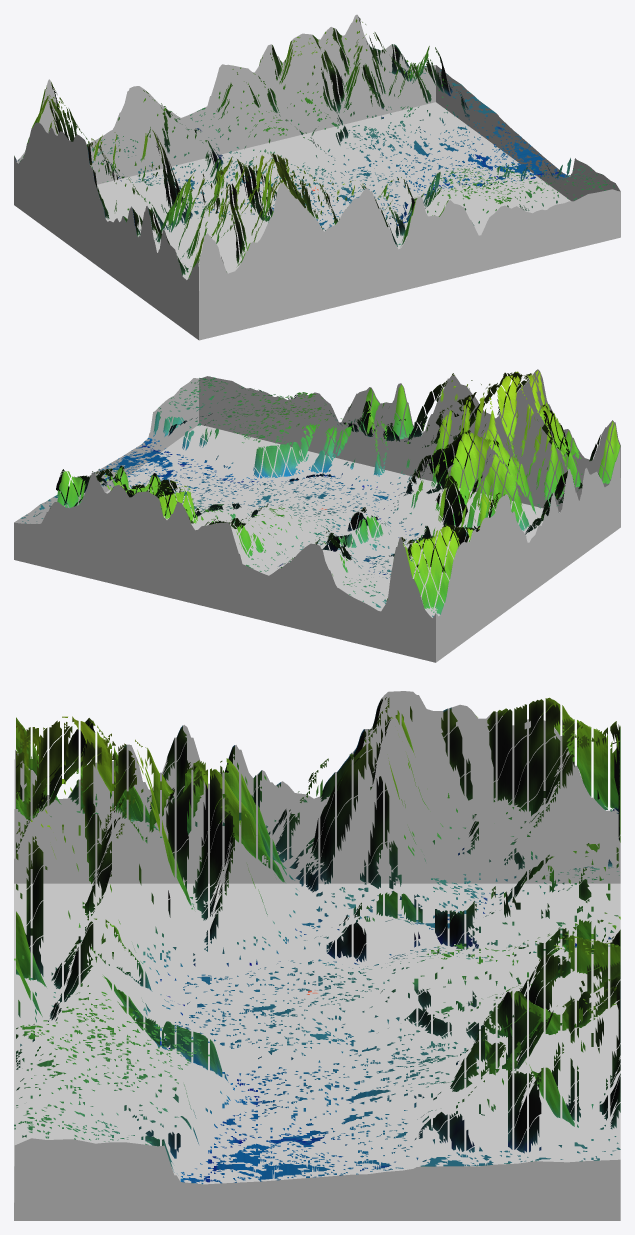
The model's file is OhirayamaTerrain.obj.
3 views of the same model, one above another, from view 1: azimuth 30°, elevation 25°; view 2: azimuth 150°, elevation 25°; view 3: azimuth 270°, elevation 25° (orthographic). The views are drawn at different scales.
Parts seen in each view (by area): view 1: __OhirayamaTerrainLocalExport; view 2: __OhirayamaTerrainLocalExport; view 3: __OhirayamaTerrainLocalExport.
Part boxes in pixels (x1,y1,x2,y2): __OhirayamaTerrainLocalExport: (14, 14, 620, 340); __OhirayamaTerrainLocalExport: (14, 369, 620, 662); __OhirayamaTerrainLocalExport: (14, 691, 620, 1220).
Bounding box in the file's own units: 22.44 × 7.36 × 17.06.
2 materials, 1 textured.
